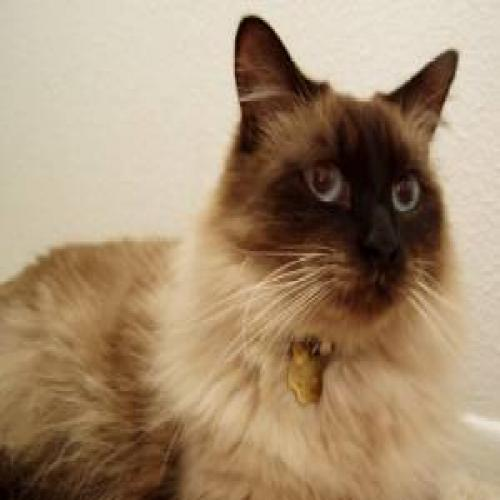siamese: (219, 2, 483, 396)
